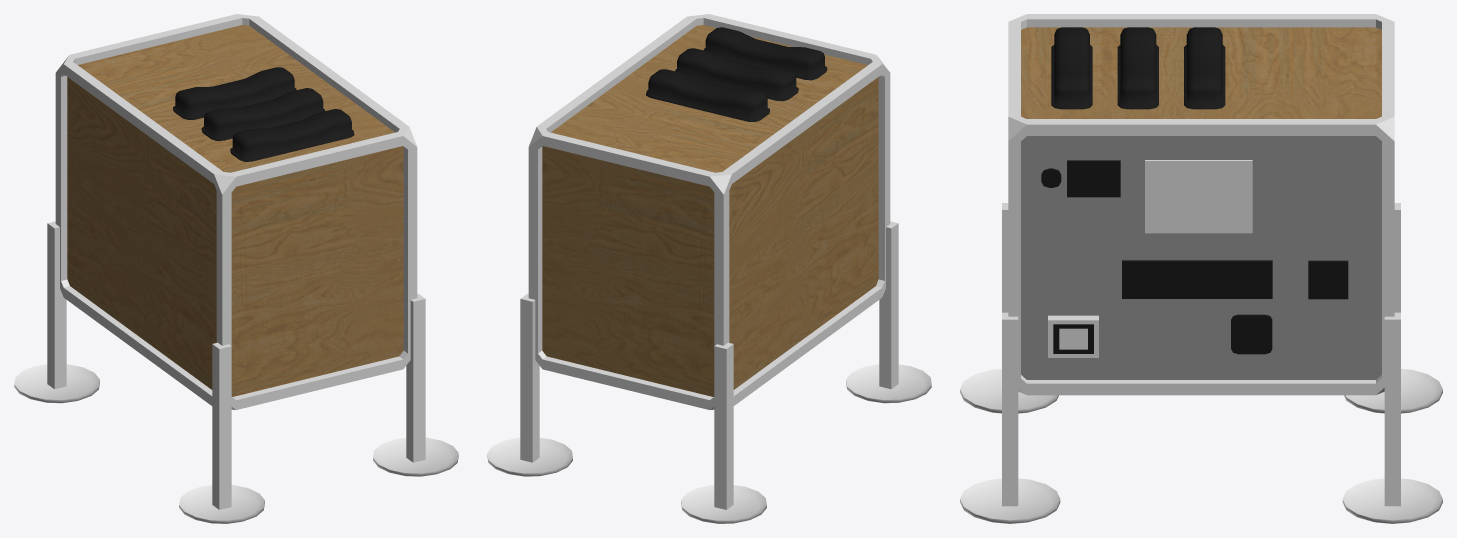
File: panel.fbx
The picture shows the model from 3 angles, left to right: view 1: azimuth 30°, elevation 25°; view 2: azimuth 150°, elevation 25°; view 3: azimuth 270°, elevation 25°; orthographic projection. The views are drawn at different scales.
Parts seen in each view (by area): view 1: Cube.029; view 2: Cube.029; view 3: Cube.029.
Boxes of the visible parts, left/top/right/bottom form: Cube.029: left=14, top=14, right=458, bottom=523; Cube.029: left=487, top=14, right=931, bottom=523; Cube.029: left=960, top=14, right=1442, bottom=523.
Bounding box in the file's own units: 70.59 × 85.71 × 94.68.
